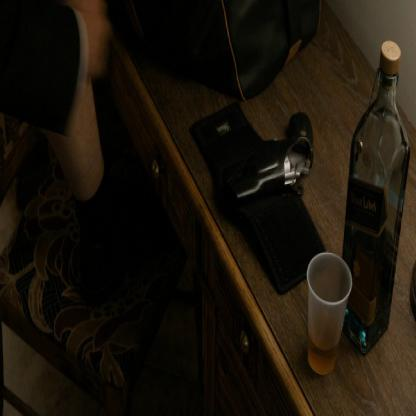Guns: (227, 107, 317, 204)
